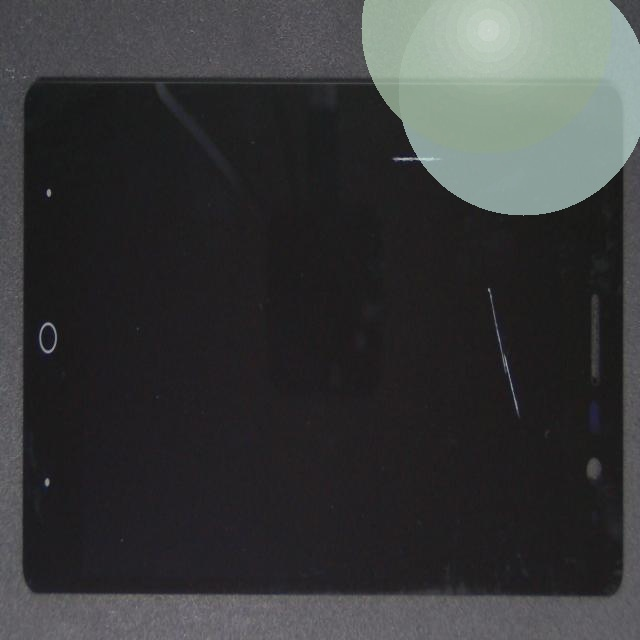scratch: (288, 292, 640, 553), (263, 73, 637, 211)
